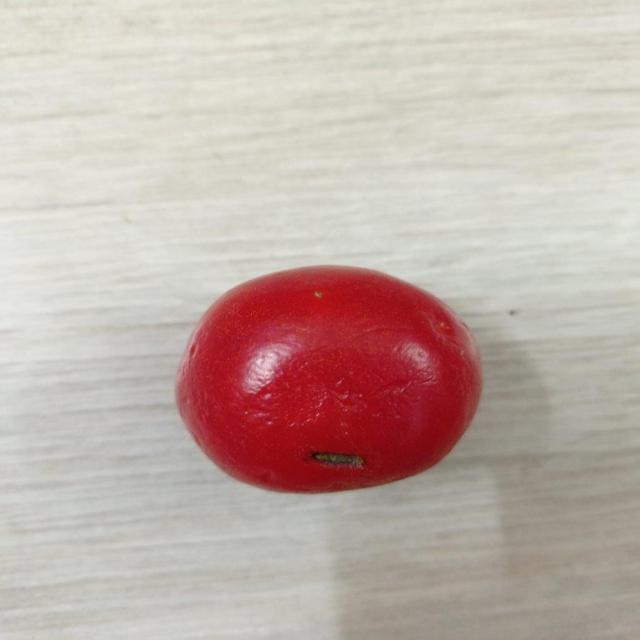overripe: (176, 260, 488, 498)
